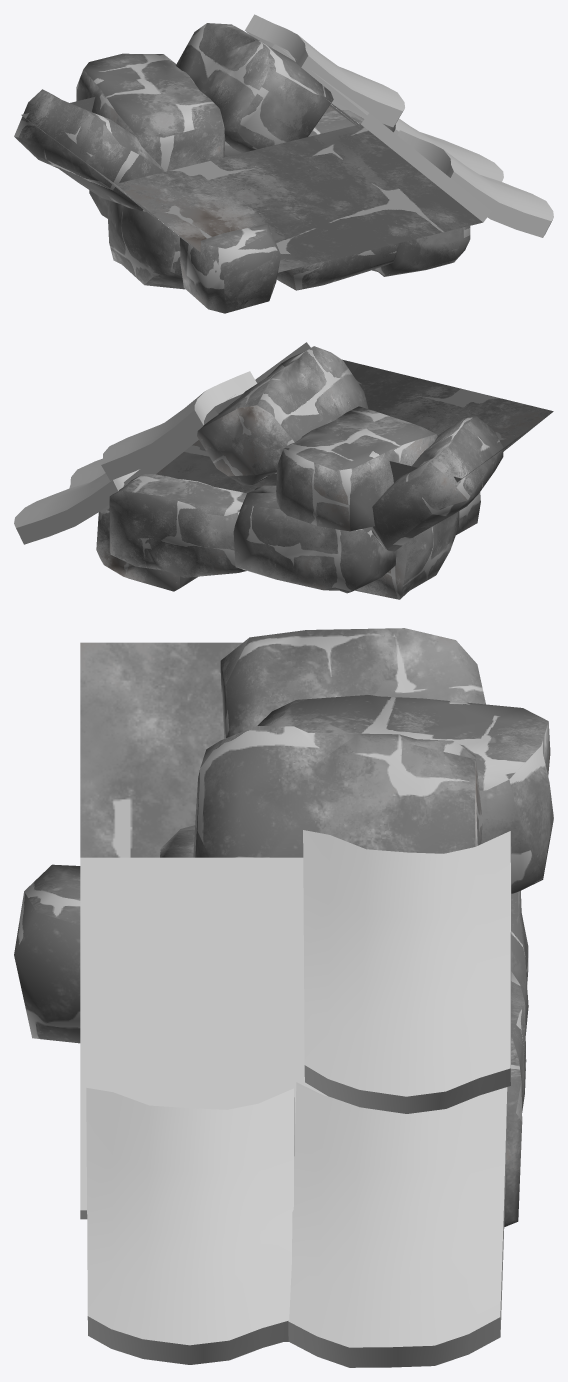
The model's file is Roof_End_Right.fbx.
3 views of the same model, one above another, from view 1: azimuth 30°, elevation 25°; view 2: azimuth 150°, elevation 25°; view 3: azimuth 270°, elevation 25° (orthographic). The views are drawn at different scales.
Visible parts, largest first — view 1: rock_6.001, Wall.016, Roof.002; view 2: rock_6.001, Roof.002, Wall.016; view 3: Roof.002, rock_6.001, Wall.016.
Part boxes in pixels (box(x1,y1,x2,y2)): rock_6.001: box(14, 23, 470, 313); Wall.016: box(21, 97, 482, 272); Roof.002: box(245, 14, 553, 237); rock_6.001: box(96, 346, 503, 599); Roof.002: box(14, 342, 310, 544); Wall.016: box(156, 359, 553, 493); Roof.002: box(80, 830, 511, 1367); rock_6.001: box(14, 628, 553, 1341); Wall.016: box(80, 642, 242, 857).
Bounding box in the file's own units: 2.86 × 1.45 × 1.53.
